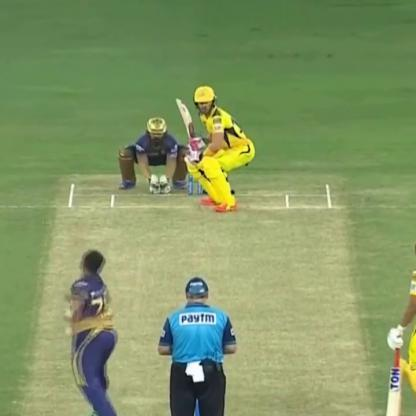ball: (55, 322, 76, 336), (59, 304, 74, 318)
bat: (158, 90, 207, 143)
pitch: (18, 170, 381, 416)
